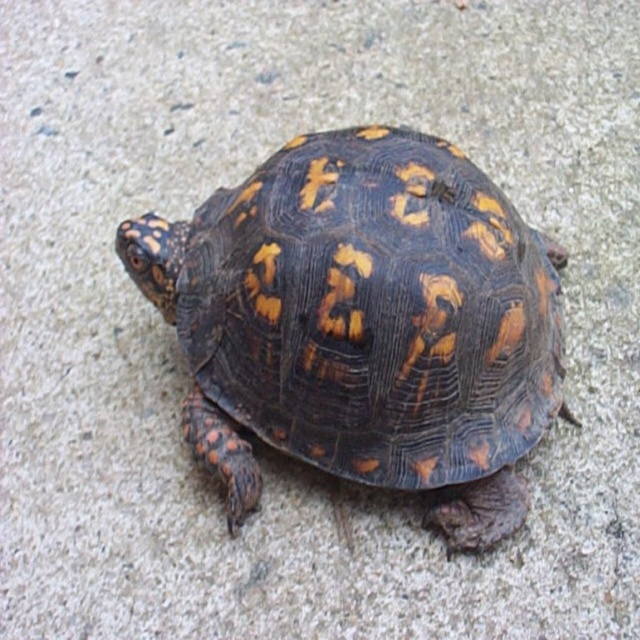Sea turtle: (111, 117, 567, 551)
